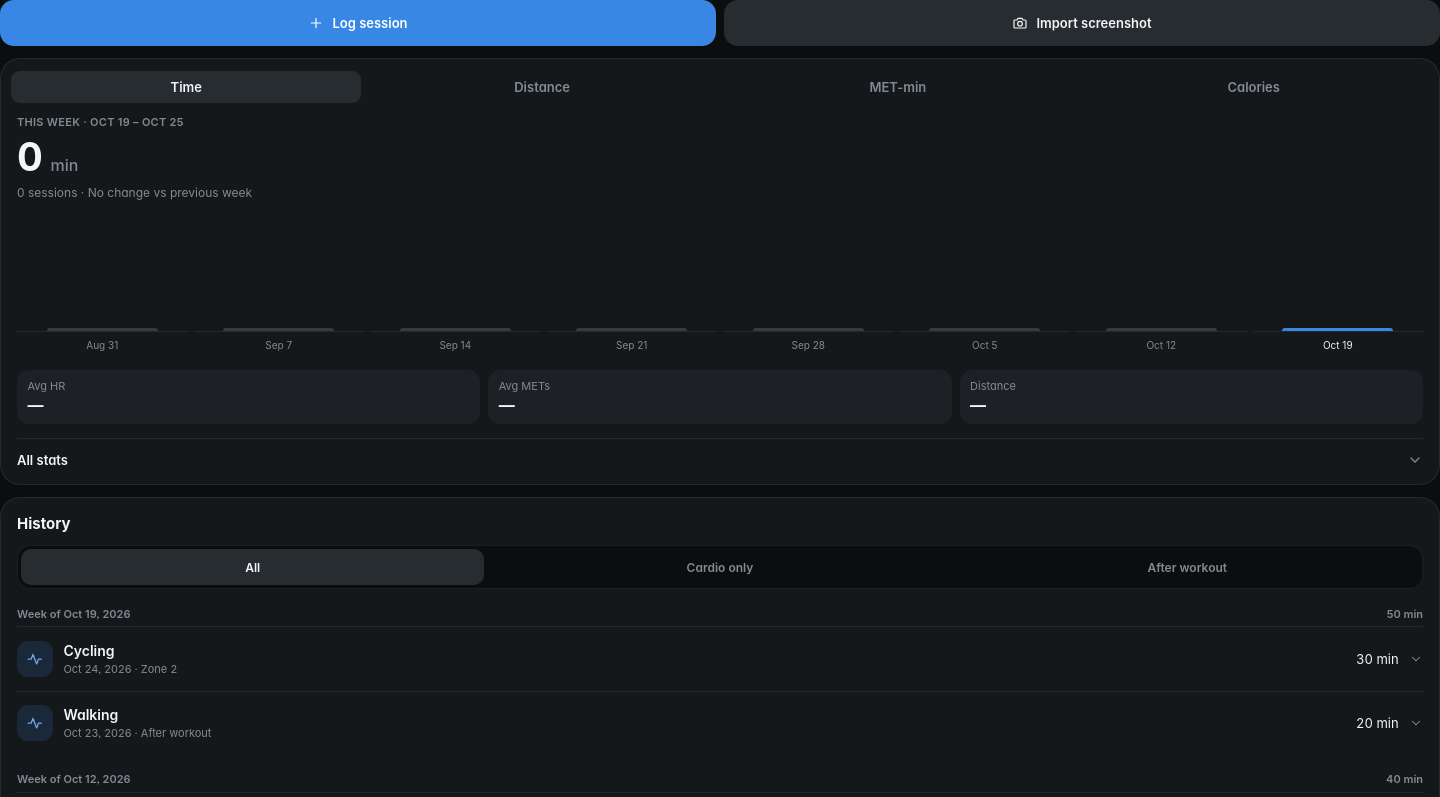
it: cardio weekly trend screen › opens all stats, switches periods and explains METs in a dismissible popup
Click the heading "All stats" at (42, 460), box [17,452,1423,468]
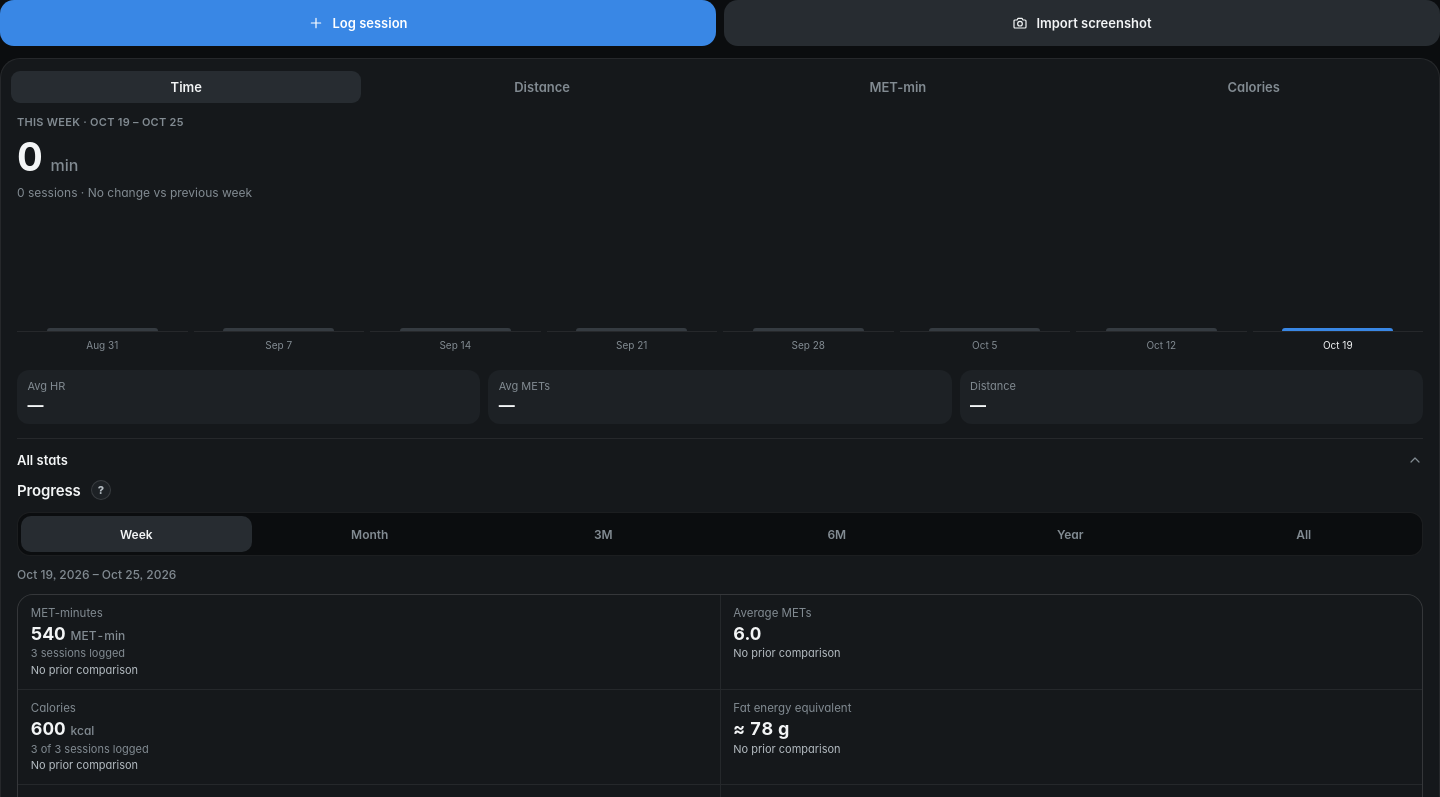
Click the button "Month" at (370, 534), box [254,516,485,552]
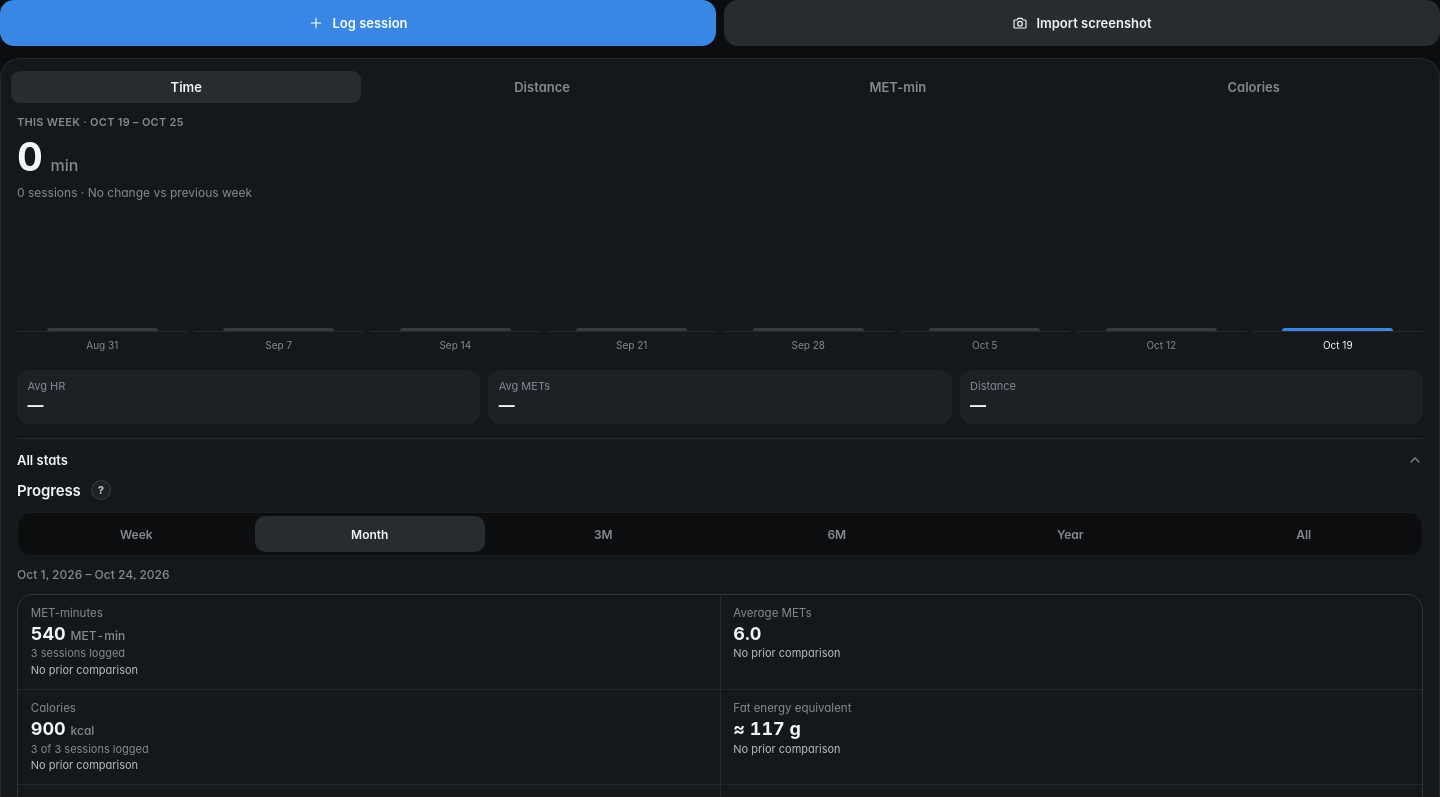
Click the button "?" at (101, 490), box [91,480,111,500]
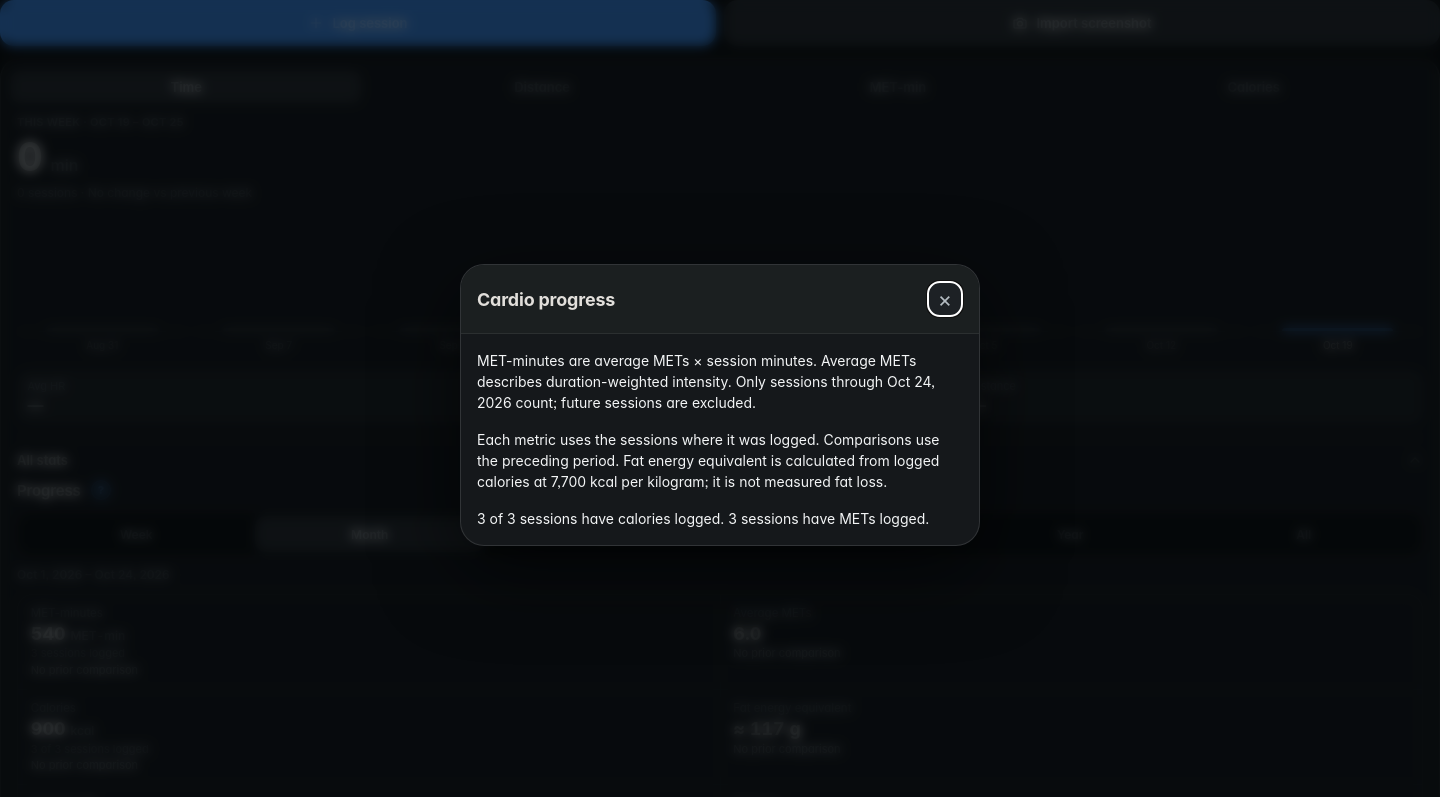
Expected: the dialog shows "not measured fat loss", [477,452,939,490]
Click the button named "Close Cardio progress" at (945, 299), box [927,281,963,317]
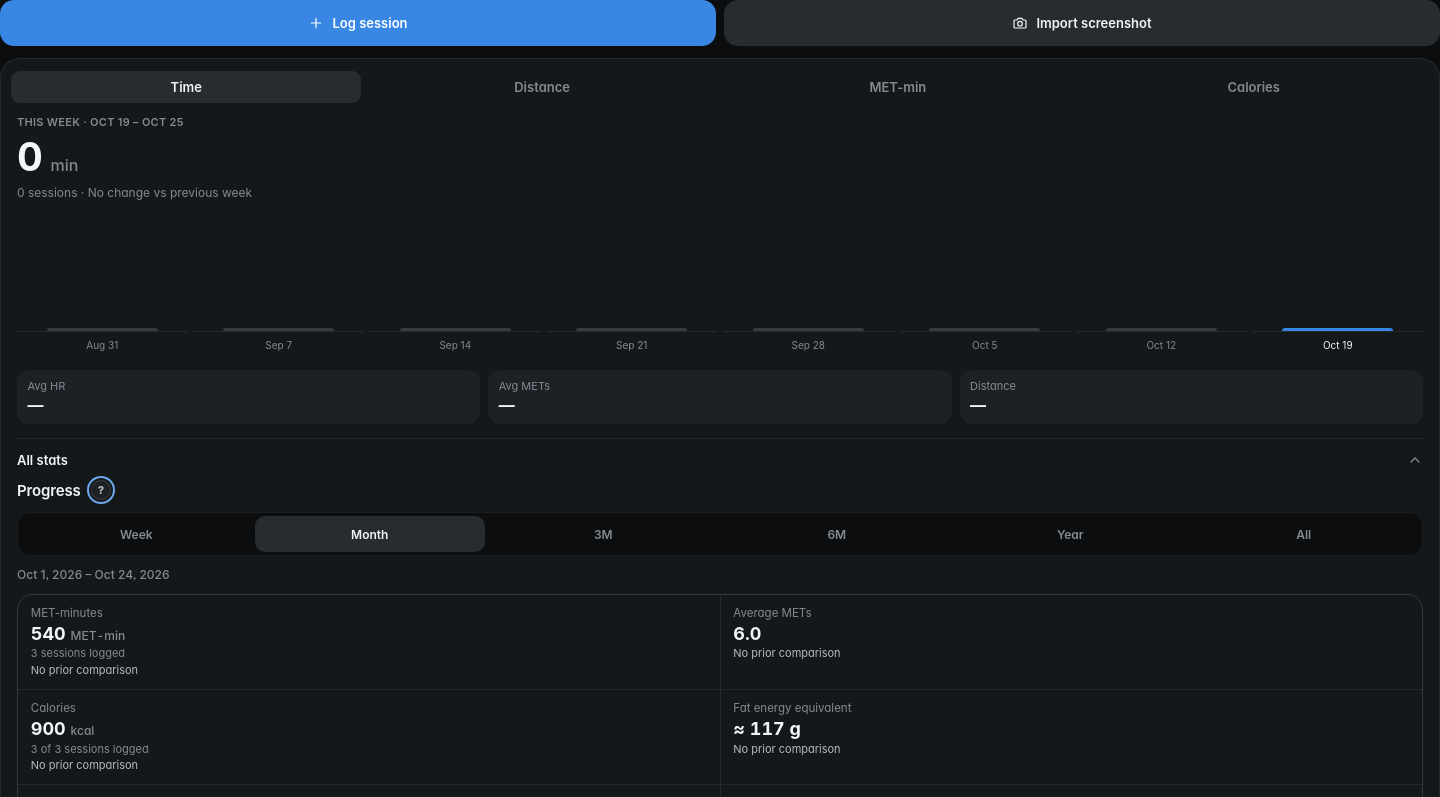
Expected: the dialog is gone
